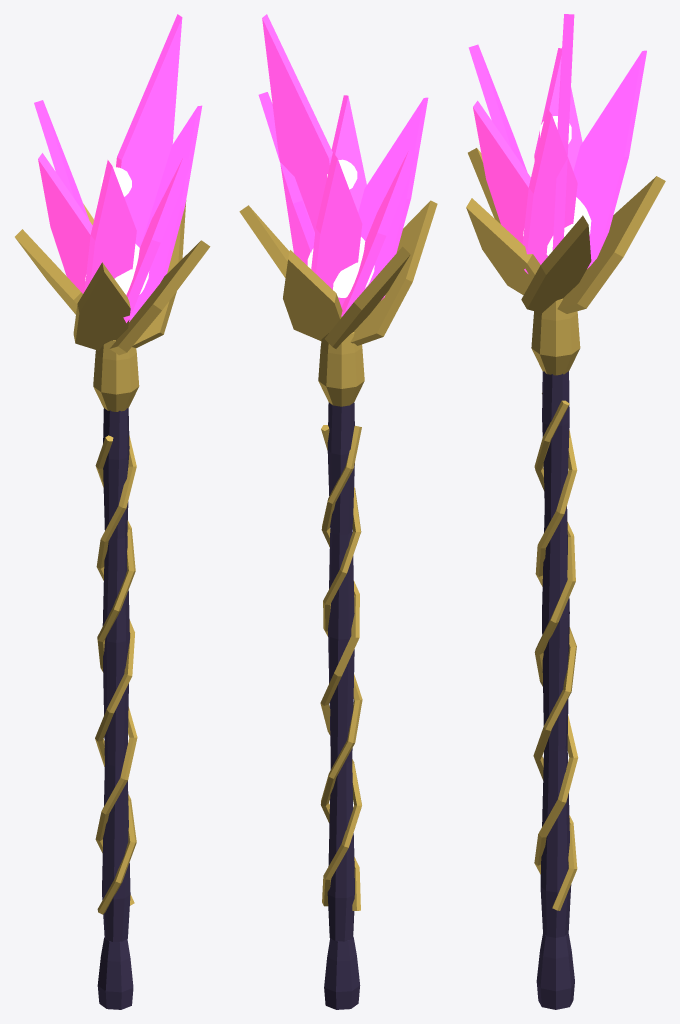
Rendered from staff_duskrose.glb.
The picture shows the model from 3 angles, left to right: view 1: azimuth 30°, elevation 25°; view 2: azimuth 150°, elevation 25°; view 3: azimuth 270°, elevation 25°; orthographic projection. The views are drawn at different scales.
Visible parts, largest first — view 1: Dr_Shaft, Dr_Flame0, Dr_Flame3, Dr_Flame2, Dr_Flame5, Dr_GoldLeaf2, Dr_Gold1, Dr_Gold0, Dr_Neck, Dr_GoldLeaf3, Dr_Flame4, Dr_Butt (+4 smaller); view 2: Dr_Shaft, Dr_Flame0, Dr_Flame1, Dr_Flame3, Dr_Gold0, Dr_GoldLeaf0, Dr_GoldLeaf2, Dr_Gold1, Dr_Neck, Dr_Flame2, Dr_Butt, Dr_GoldLeaf1 (+4 smaller); view 3: Dr_Shaft, Dr_Flame1, Dr_Flame5, Dr_Flame4, Dr_GoldLeaf0, Dr_Gold1, Dr_GoldLeaf4, Dr_Gold0, Dr_GoldLeaf3, Dr_Neck, Dr_Butt, Dr_Flame0 (+3 smaller).
Part boxes in pixels (x1,y1,x2,y2): Dr_Shaft: [102, 408, 130, 942]; Dr_Flame0: [116, 14, 182, 247]; Dr_Flame3: [84, 160, 136, 291]; Dr_Flame2: [38, 153, 92, 293]; Dr_Flame5: [129, 105, 202, 321]; Dr_GoldLeaf2: [73, 262, 130, 350]; Dr_Gold1: [95, 435, 136, 914]; Dr_Gold0: [95, 435, 137, 905]; Dr_Neck: [93, 340, 139, 411]; Dr_GoldLeaf3: [110, 240, 210, 355]; Dr_Flame4: [123, 157, 191, 322]; Dr_Butt: [97, 937, 133, 1009]; Dr_Shaft: [327, 402, 354, 941]; Dr_Flame0: [262, 14, 332, 265]; Dr_Flame1: [311, 152, 362, 307]; Dr_Flame3: [358, 97, 428, 300]; Dr_Gold0: [320, 425, 361, 906]; Dr_GoldLeaf0: [283, 250, 342, 340]; Dr_GoldLeaf2: [350, 200, 437, 345]; Dr_Gold1: [320, 425, 362, 910]; Dr_Neck: [318, 332, 364, 406]; Dr_Flame2: [341, 150, 417, 316]; Dr_Butt: [324, 936, 360, 1009]; Dr_GoldLeaf1: [325, 246, 410, 348]; Dr_Shaft: [540, 371, 571, 937]; Dr_Flame1: [573, 50, 646, 268]; Dr_Flame5: [522, 108, 577, 273]; Dr_Flame4: [473, 100, 530, 243]; Dr_GoldLeaf0: [557, 176, 665, 313]; Dr_Gold1: [534, 400, 578, 874]; Dr_GoldLeaf4: [521, 215, 591, 312]; Dr_Gold0: [533, 393, 577, 910]; Dr_GoldLeaf3: [466, 198, 540, 294]; Dr_Neck: [531, 298, 580, 375]; Dr_Butt: [536, 933, 574, 1009]; Dr_Flame0: [552, 14, 574, 250].
Size of the model in its own units: 0.4888 by 2.64 by 0.4666.
